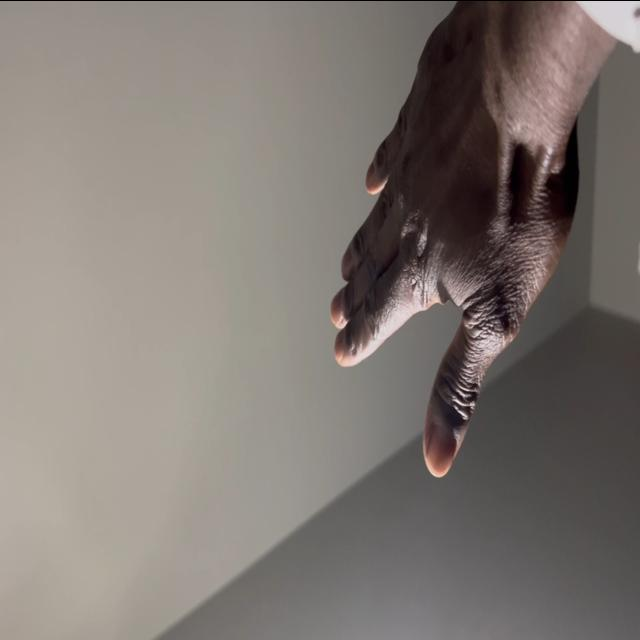Paper: (328, 0, 584, 484)
